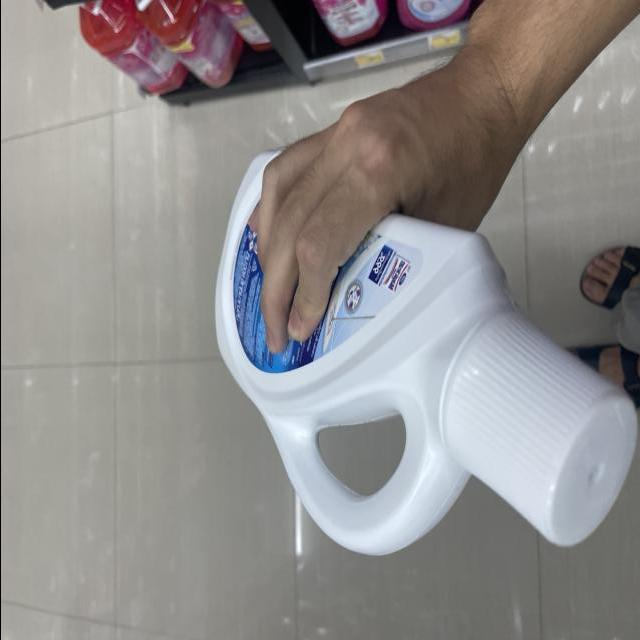HDPE Plastic: (203, 158, 640, 555)
